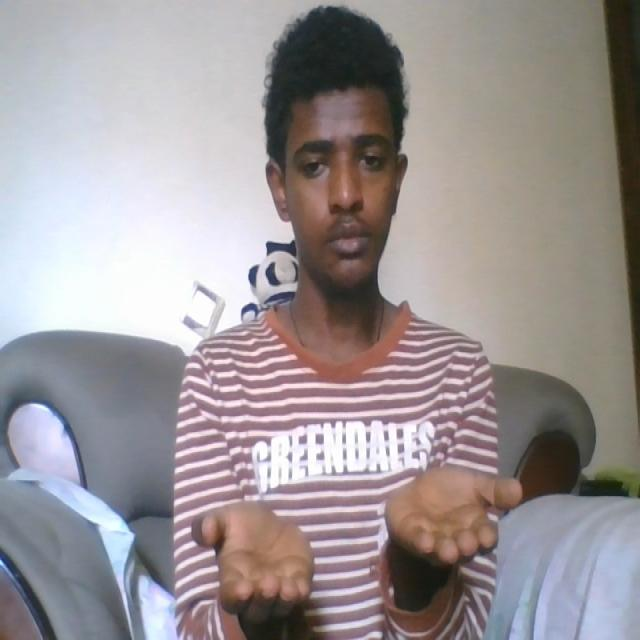mestet: (188, 512, 506, 606)
